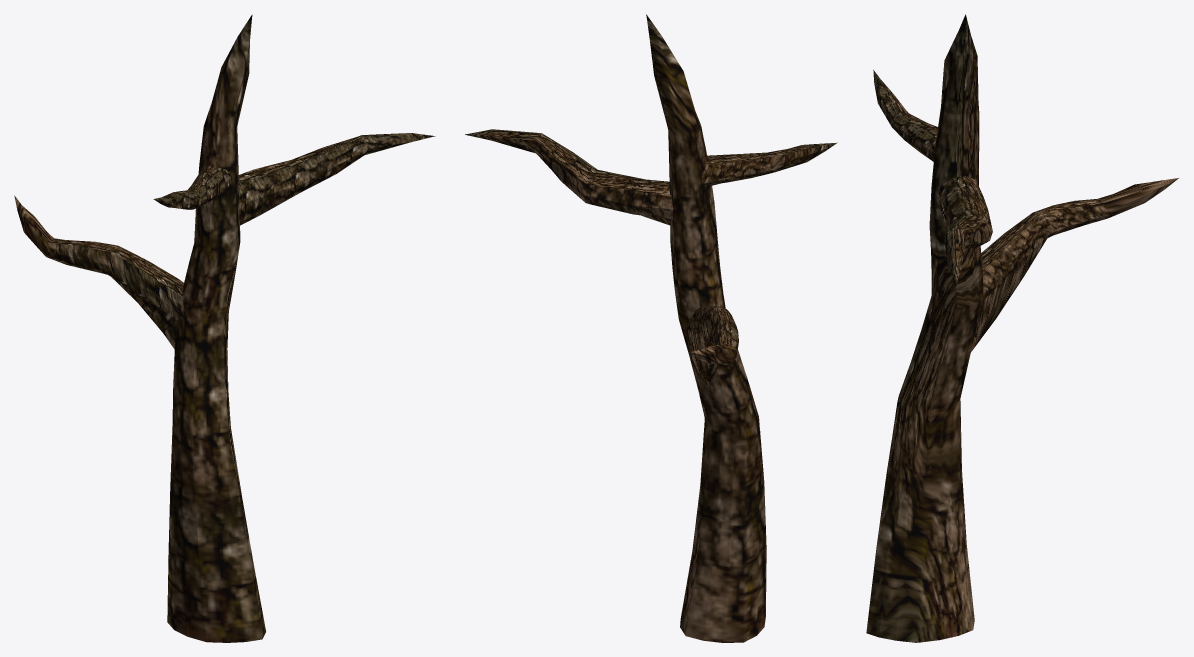
File: tree0.obj
3 renders of one model, left to right at view 1: azimuth 30°, elevation 25°; view 2: azimuth 150°, elevation 25°; view 3: azimuth 270°, elevation 25°, orthographic. The views are drawn at different scales.
Visible parts, largest first — view 1: ColobotMesh_1.002_ColobotMesh_.002, ColobotMesh_1_ColobotMesh_, ColobotMesh_1.003_ColobotMesh_.003, ColobotMesh_1.001_ColobotMesh_.001; view 2: ColobotMesh_1.002_ColobotMesh_.002, ColobotMesh_1.003_ColobotMesh_.003, ColobotMesh_1_ColobotMesh_, ColobotMesh_1.001_ColobotMesh_.001; view 3: ColobotMesh_1.002_ColobotMesh_.002, ColobotMesh_1_ColobotMesh_, ColobotMesh_1.003_ColobotMesh_.003, ColobotMesh_1.001_ColobotMesh_.001.
Boxes of the visible parts, x1=… form: ColobotMesh_1.002_ColobotMesh_.002: x1=167, y1=14, x2=265, y2=642; ColobotMesh_1_ColobotMesh_: x1=14, y1=195, x2=183, y2=349; ColobotMesh_1.003_ColobotMesh_.003: x1=238, y1=133, x2=435, y2=225; ColobotMesh_1.001_ColobotMesh_.001: x1=153, y1=165, x2=232, y2=209; ColobotMesh_1.002_ColobotMesh_.002: x1=646, y1=14, x2=766, y2=642; ColobotMesh_1.003_ColobotMesh_.003: x1=465, y1=129, x2=673, y2=225; ColobotMesh_1_ColobotMesh_: x1=687, y1=305, x2=738, y2=386; ColobotMesh_1.001_ColobotMesh_.001: x1=701, y1=142, x2=837, y2=185; ColobotMesh_1.002_ColobotMesh_.002: x1=866, y1=14, x2=983, y2=642; ColobotMesh_1_ColobotMesh_: x1=971, y1=178, x2=1178, y2=351; ColobotMesh_1.003_ColobotMesh_.003: x1=937, y1=176, x2=992, y2=286; ColobotMesh_1.001_ColobotMesh_.001: x1=873, y1=70, x2=937, y2=161.
Size of the model in its own units: 23.9 by 40.65 by 18.08.
